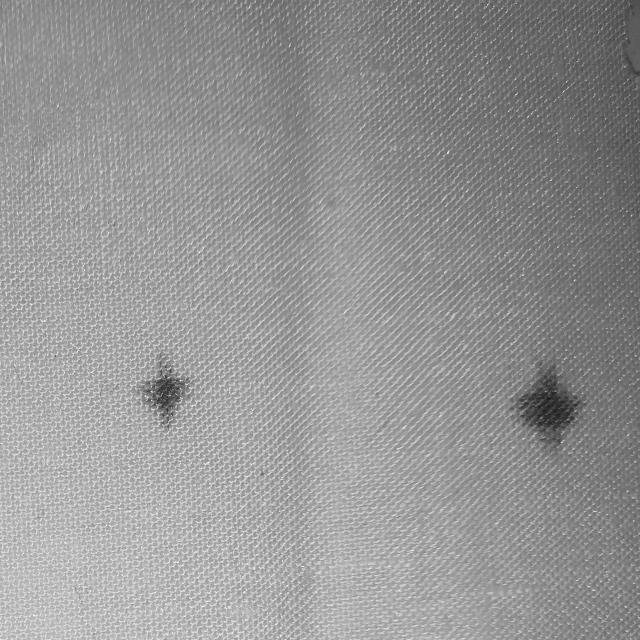Stain: (515, 365, 582, 444), (135, 352, 192, 428)
